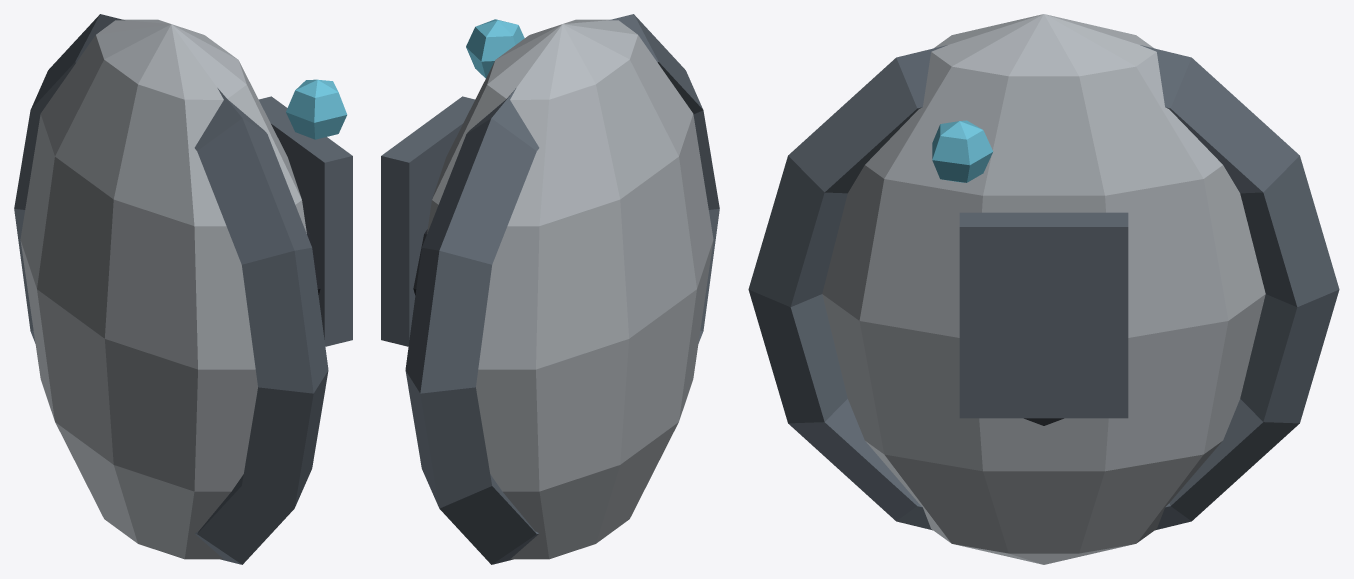
File: ear-prosthesis.glb
3 views of the same model, side by side, from view 1: azimuth 30°, elevation 25°; view 2: azimuth 150°, elevation 25°; view 3: azimuth 270°, elevation 25° (orthographic). The views are drawn at different scales.
Parts seen in each view (by area): view 1: m; view 2: m; view 3: m.
Part boxes in pixels (x1=…): m: x1=14, y1=14, x2=352, y2=564; m: x1=381, y1=14, x2=719, y2=564; m: x1=748, y1=14, x2=1339, y2=564.
Size of the model in its own units: 0.0333 by 0.07 by 0.0681.
